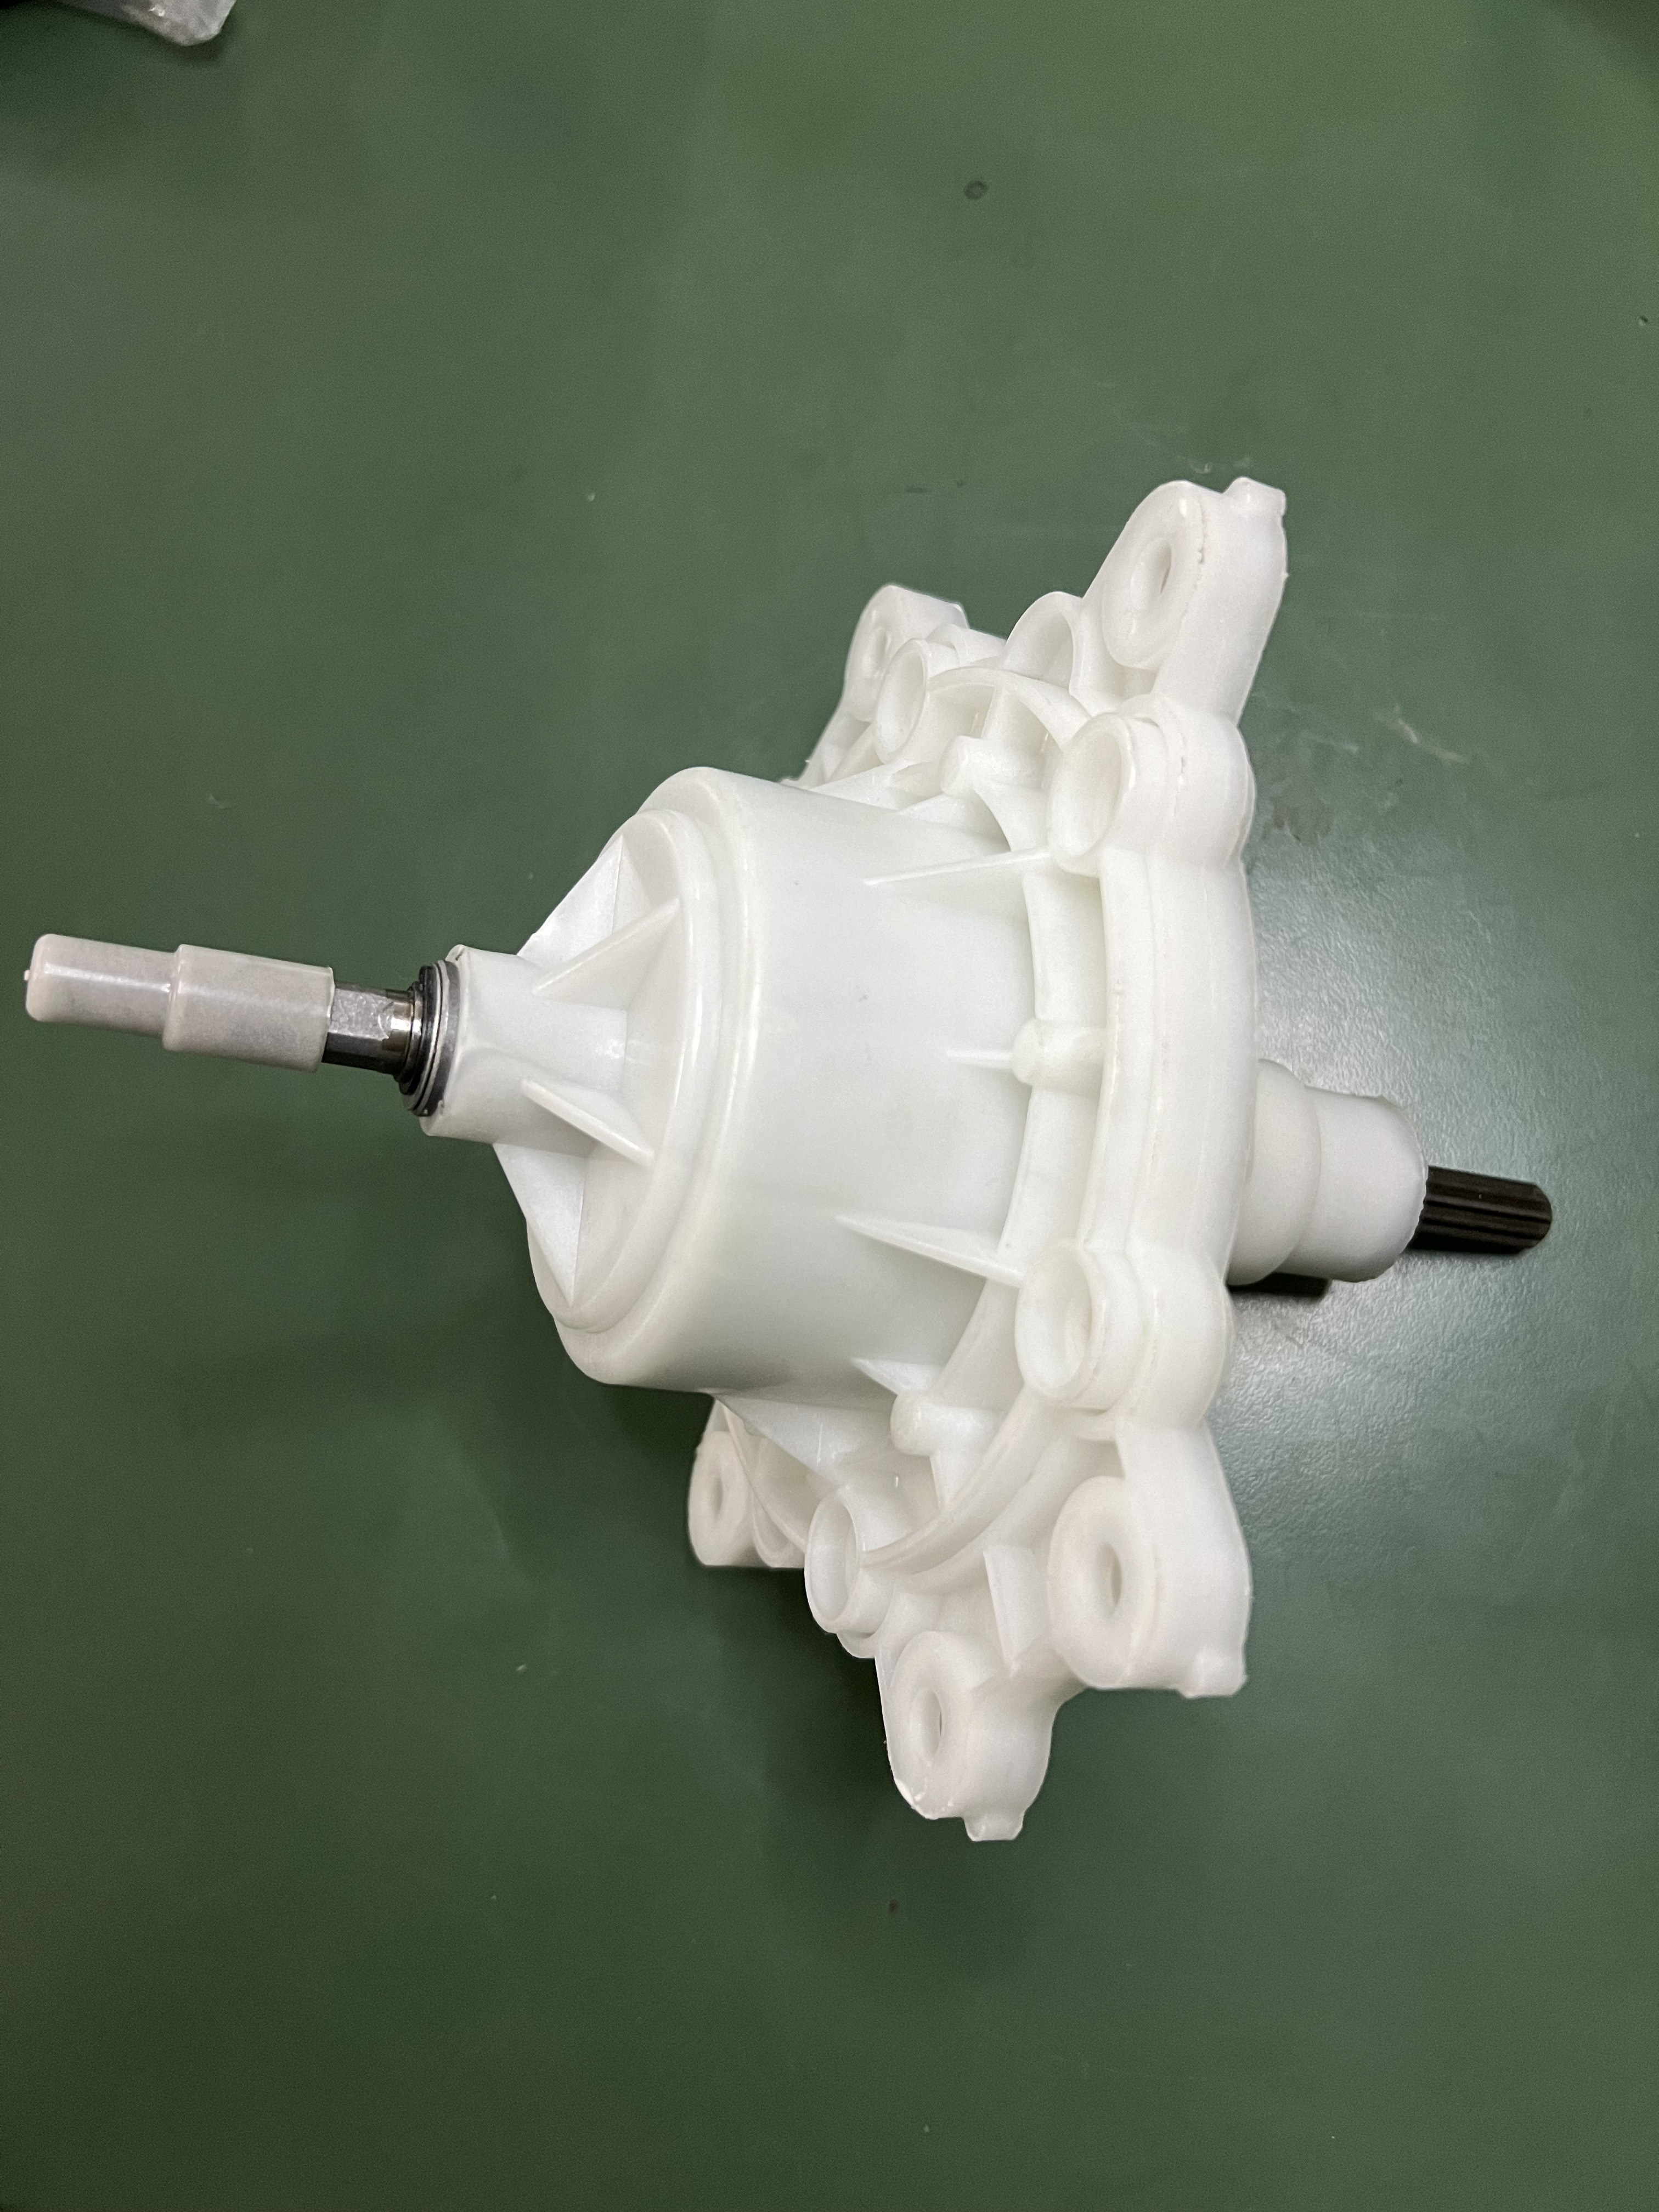gear_box_design: (30, 502, 1553, 1848)
